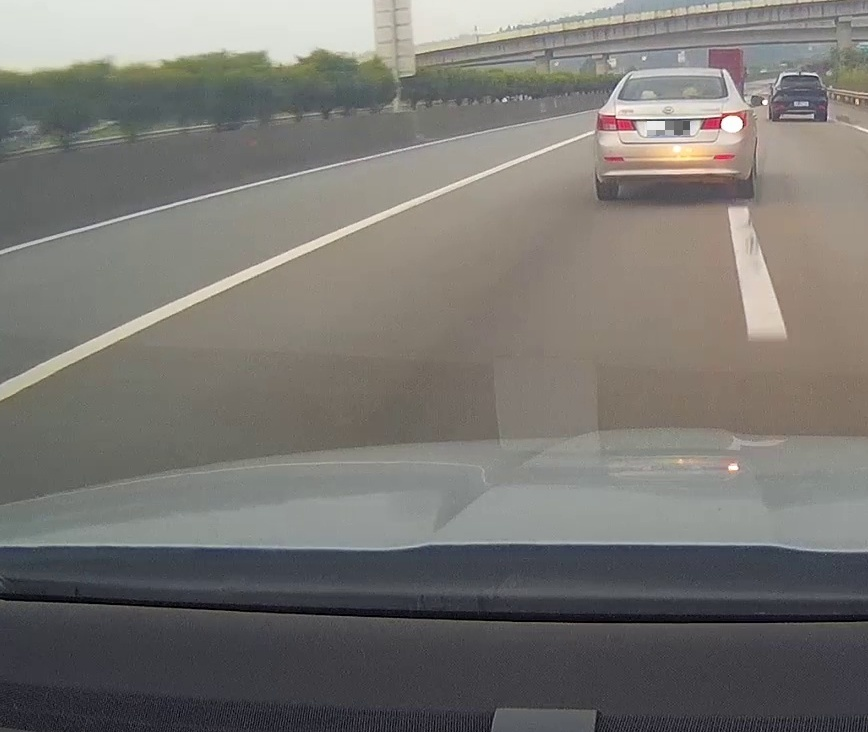L_light: (596, 113, 637, 131), (776, 85, 788, 90)
R_light: (700, 110, 746, 132), (816, 85, 826, 91)
T_light: (659, 93, 681, 99), (795, 75, 804, 78)
day-no: (771, 71, 828, 121)
day-right: (594, 67, 753, 200)
plate_1: (647, 121, 690, 135)
